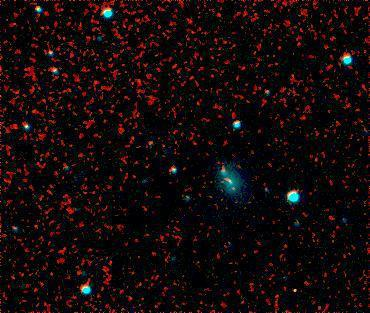star: (222, 172, 252, 202)
